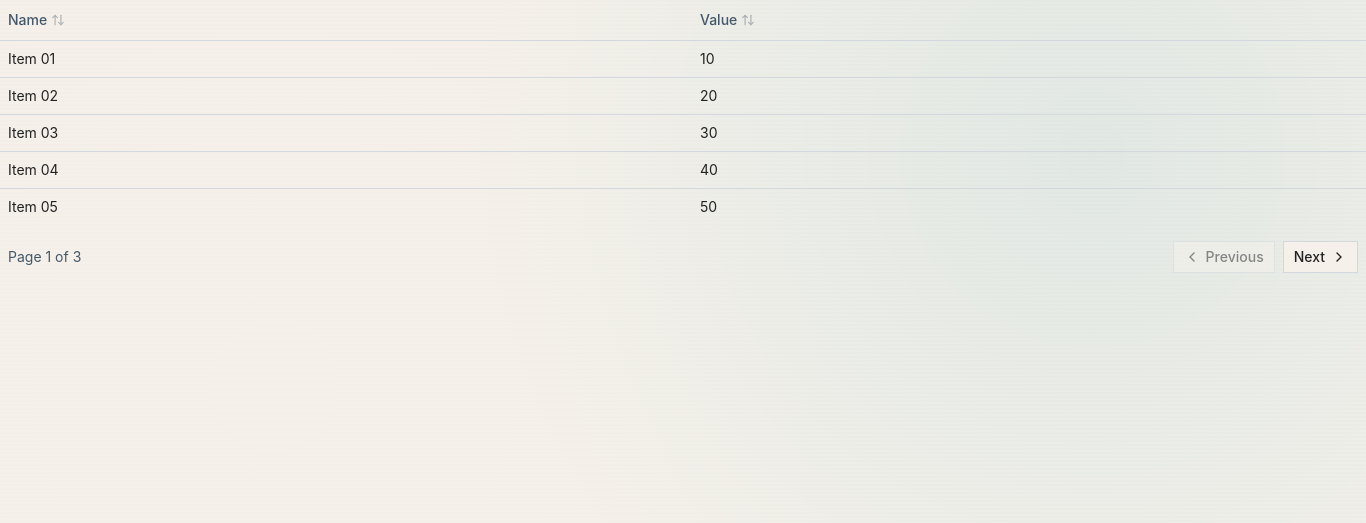
Test: DataTable - pagination › navigates to next page
Click the button "Next" at (1320, 256), box [1283,240,1358,272]
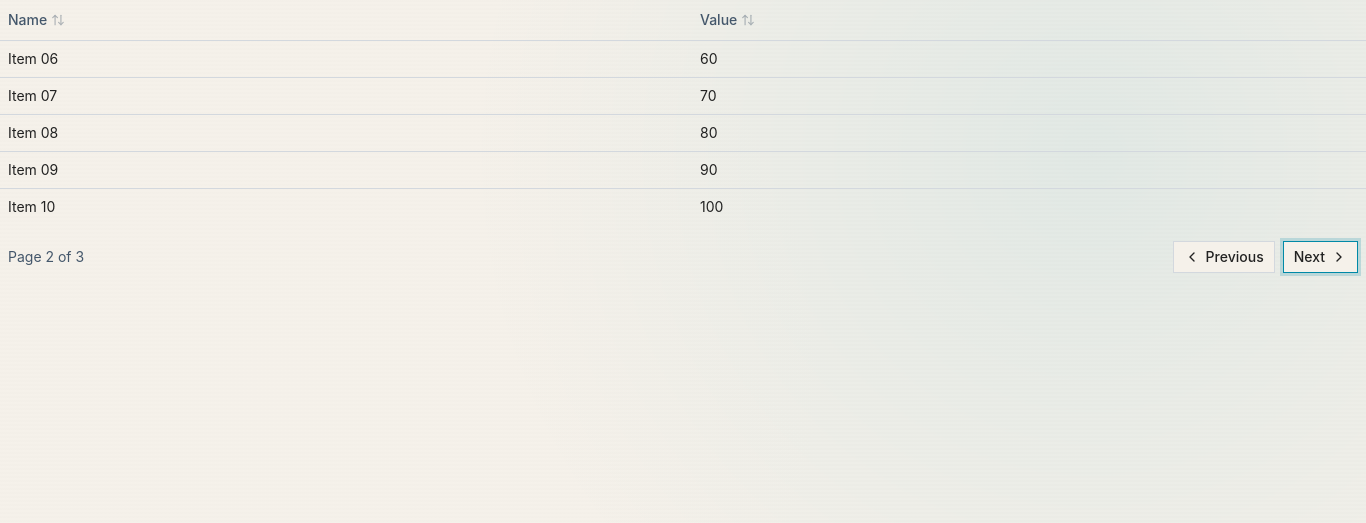
Result: the text "Page 2 of 3" is shown at [8,246,84,266]
Result: the text "Item 06" is shown at [0,40,692,77]
Result: the text "Item 10" is shown at [0,188,692,224]
